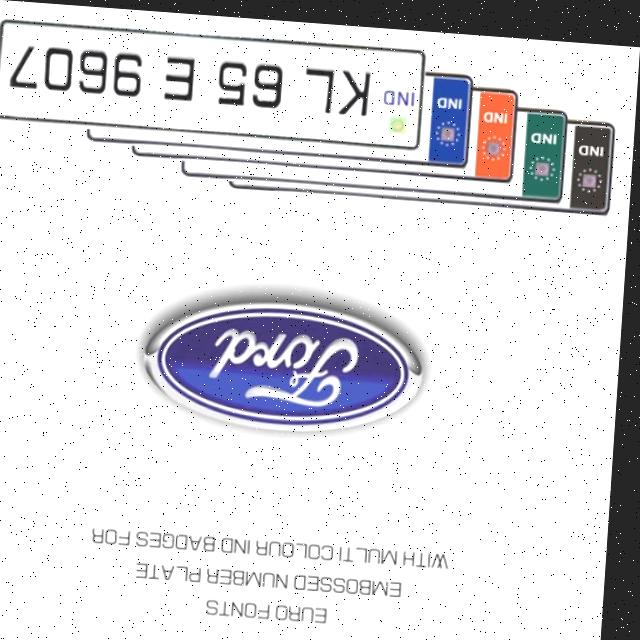plate: (0, 23, 428, 142)
